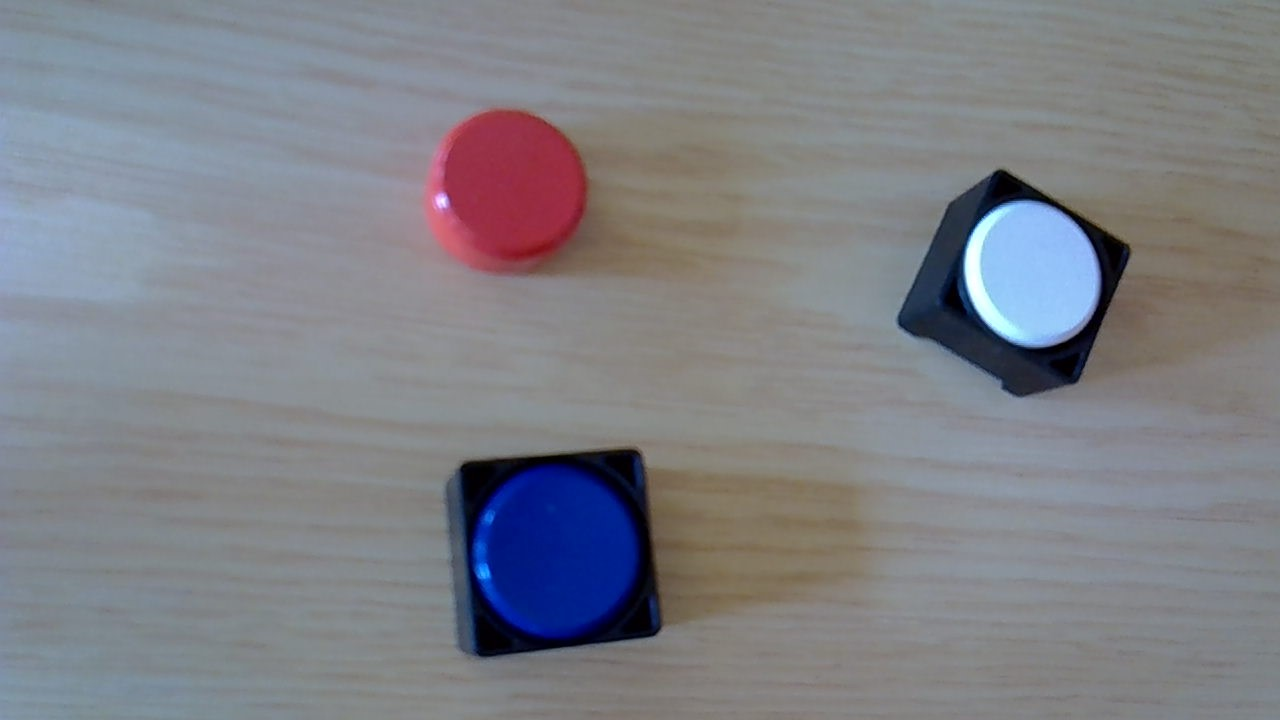Behaelter: (899, 168, 1136, 400), (445, 444, 666, 662)
WerkStueck: (474, 466, 644, 638), (421, 107, 588, 277), (961, 196, 1101, 349)
